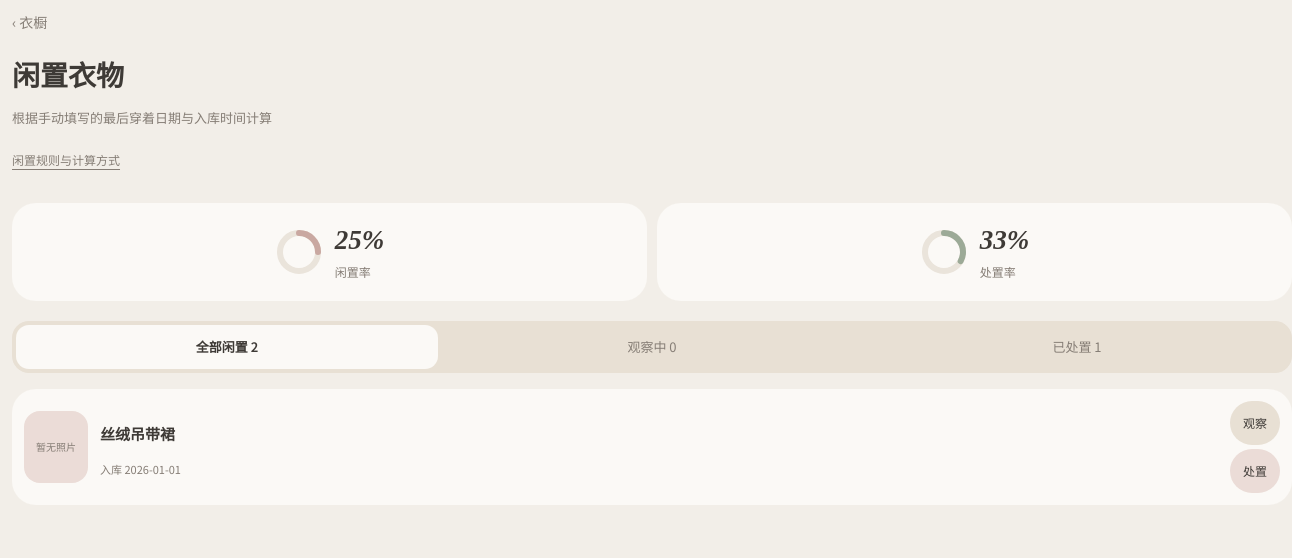
Test: refreshes after watching and retains the list and retry action on mutation failure
Expected: the link "丝绒吊带裙" is shown, 100,423 -> 175,444
Click the button with aria-label "观察丝绒吊带裙" at [1255, 423], box 1230,401 -> 1280,445
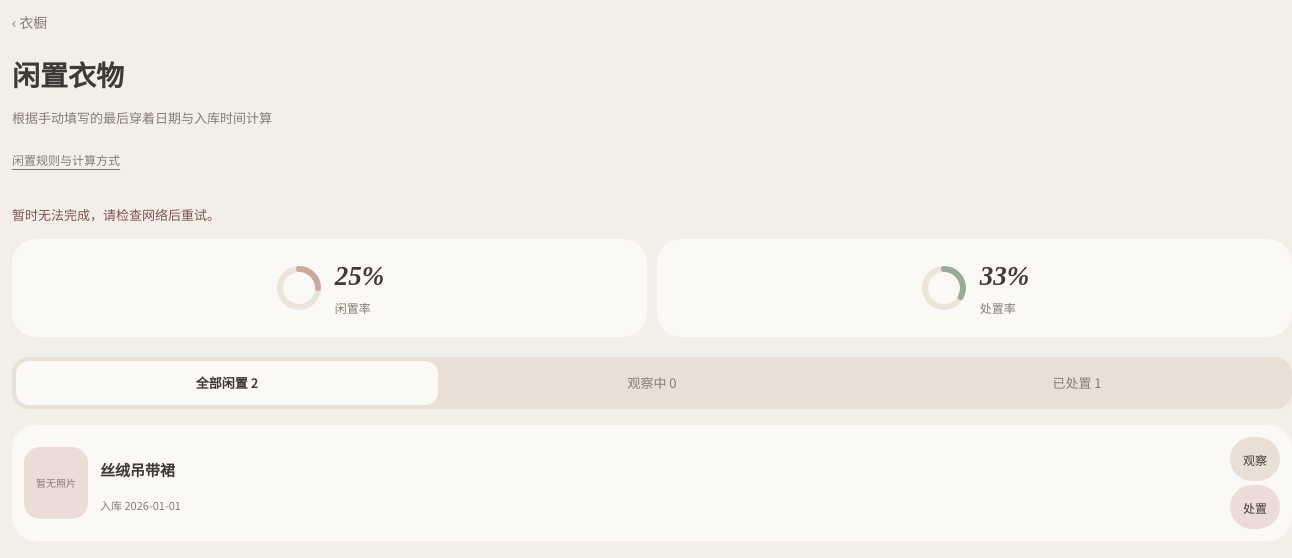
Expected: the link "丝绒吊带裙" is shown, 100,459 -> 175,480
Expected: the message "暂时无法完成，请检查网络后重试。" is shown, 12,205 -> 220,224
Click the button with aria-label "观察丝绒吊带裙" at [1255, 459], box 1230,437 -> 1280,481
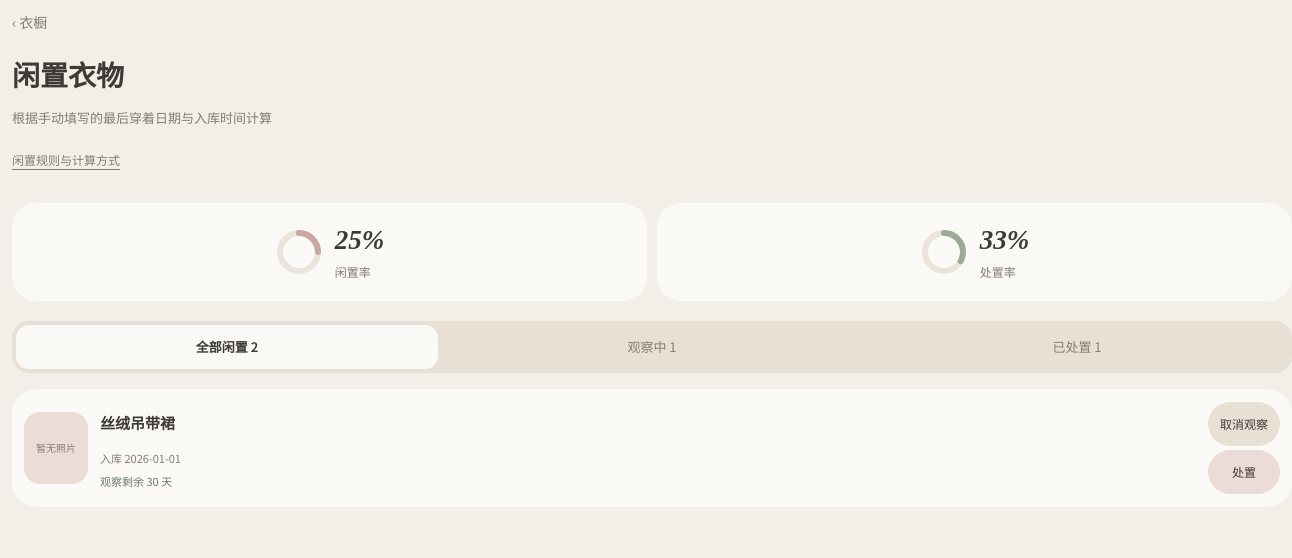
Expected: the text "观察剩余 30 天" is shown, 100,473 -> 172,489
Expected: the button with aria-label "取消观察丝绒吊带裙" is shown, 1208,402 -> 1280,446
